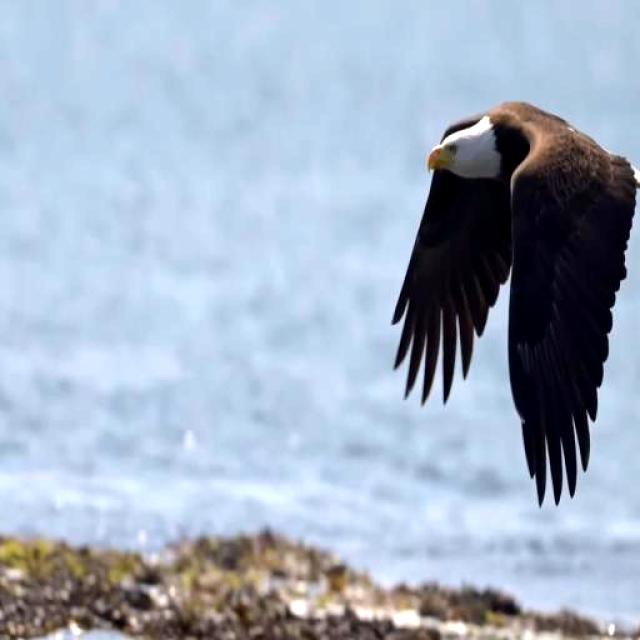airplane: (366, 66, 640, 528)
